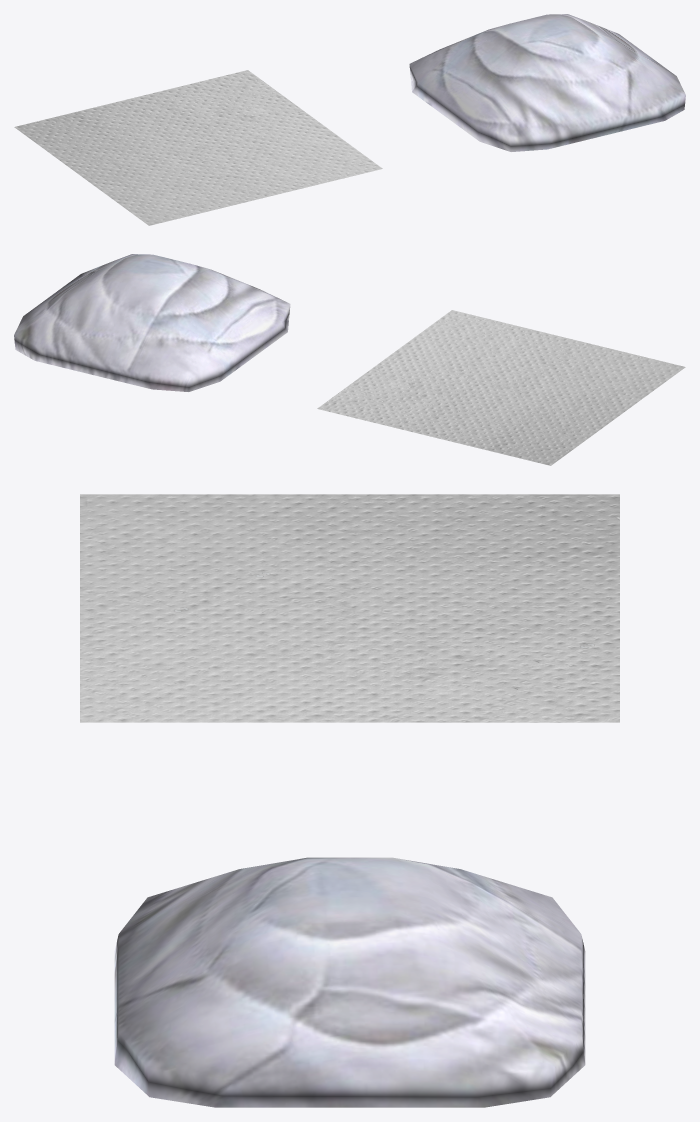
File: trapos.fbx
3 views of the same model, one above another, from view 1: azimuth 30°, elevation 25°; view 2: azimuth 150°, elevation 25°; view 3: azimuth 270°, elevation 25° (orthographic). The views are drawn at different scales.
Parts seen in each view (by area): view 1: trapo1, trapo_2; view 2: trapo1, trapo_2; view 3: trapo1, trapo_2.
Part boxes in pixels (x1=…): trapo1: x1=14, y1=70, x2=382, y2=225; trapo_2: x1=409, y1=14, x2=685, y2=151; trapo1: x1=317, y1=310, x2=685, y2=465; trapo_2: x1=14, y1=254, x2=290, y2=391; trapo1: x1=80, y1=494, x2=619, y2=722; trapo_2: x1=114, y1=857, x2=585, y2=1107.
Size of the model in its own units: 8.86 by 1 by 3.65.
2 materials, 2 textured.
